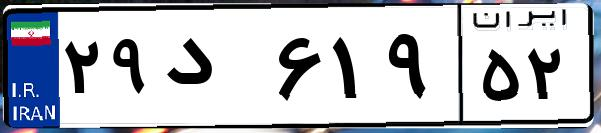1: (330, 28, 385, 110)
2: (57, 26, 110, 100), (525, 38, 570, 115)
5: (475, 38, 525, 113)
6: (270, 28, 330, 110)
9: (385, 28, 445, 110), (110, 28, 158, 98)
د: (158, 20, 270, 120)
